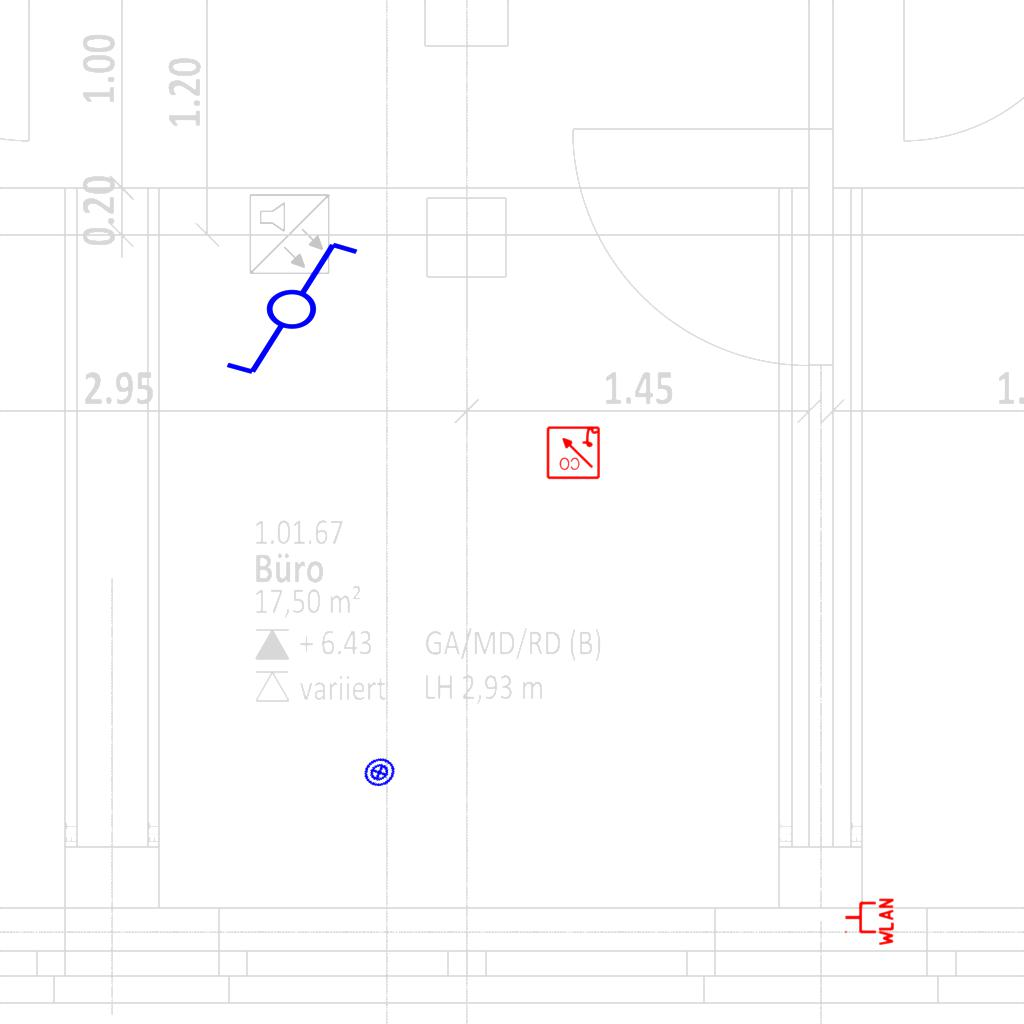ROA_Rauchmelder_optisch_mit_Signalgeber_(Sockelsirene): (545, 424, 601, 480)
Taster_beleuchtet: (357, 750, 402, 795)
WLAN: (843, 896, 895, 948)
Wechselschalter: (205, 235, 362, 379)
